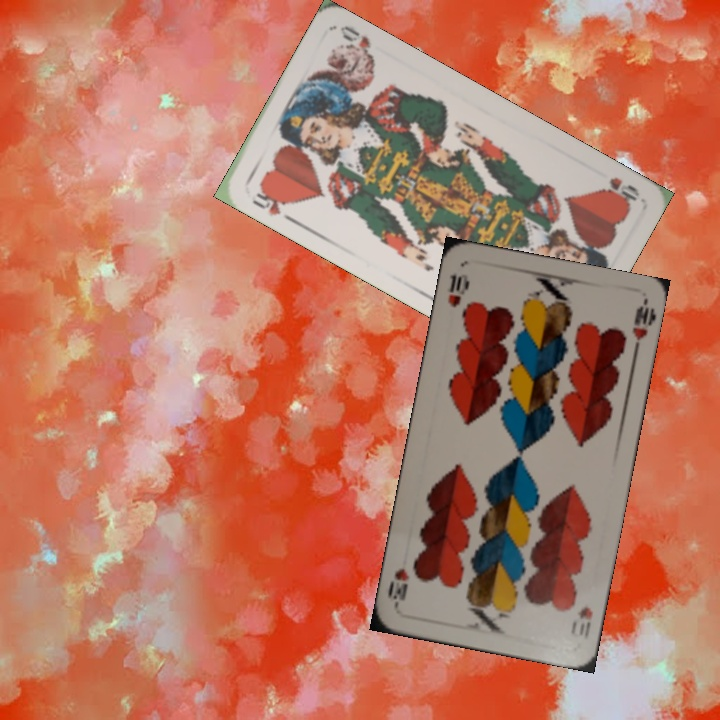H10: (443, 269, 472, 310), (566, 602, 596, 641)
HO: (248, 181, 297, 219), (599, 173, 642, 207)
